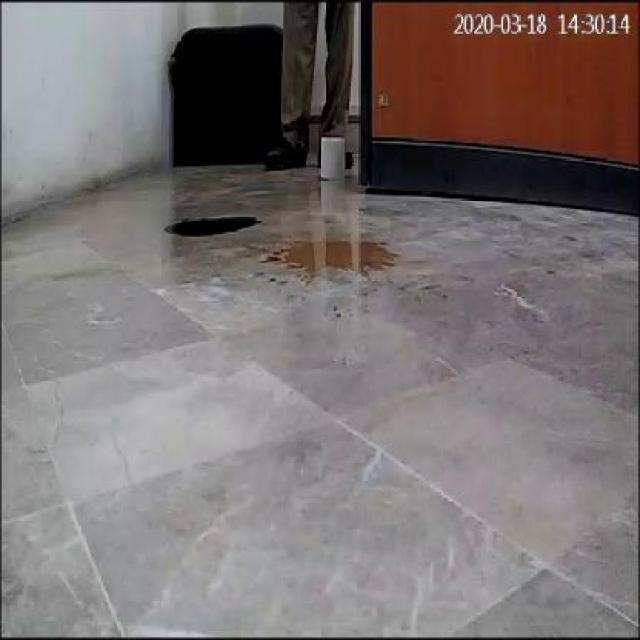spill: (257, 229, 408, 283), (162, 208, 262, 246)
